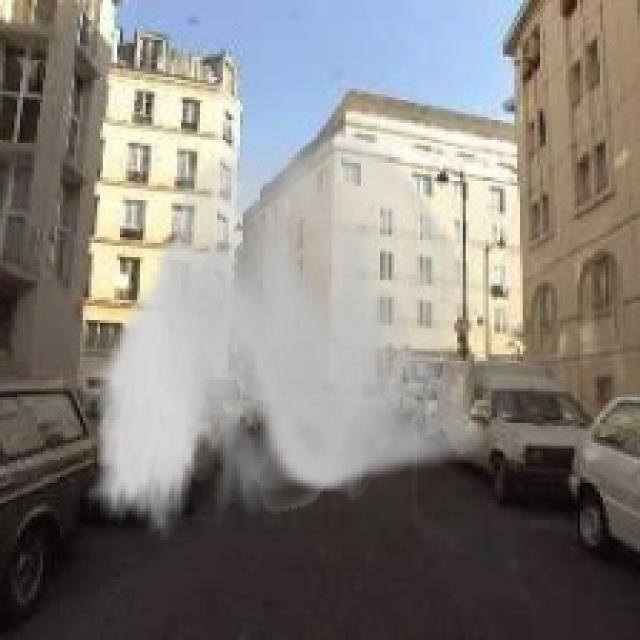smoke: (88, 120, 486, 540)
